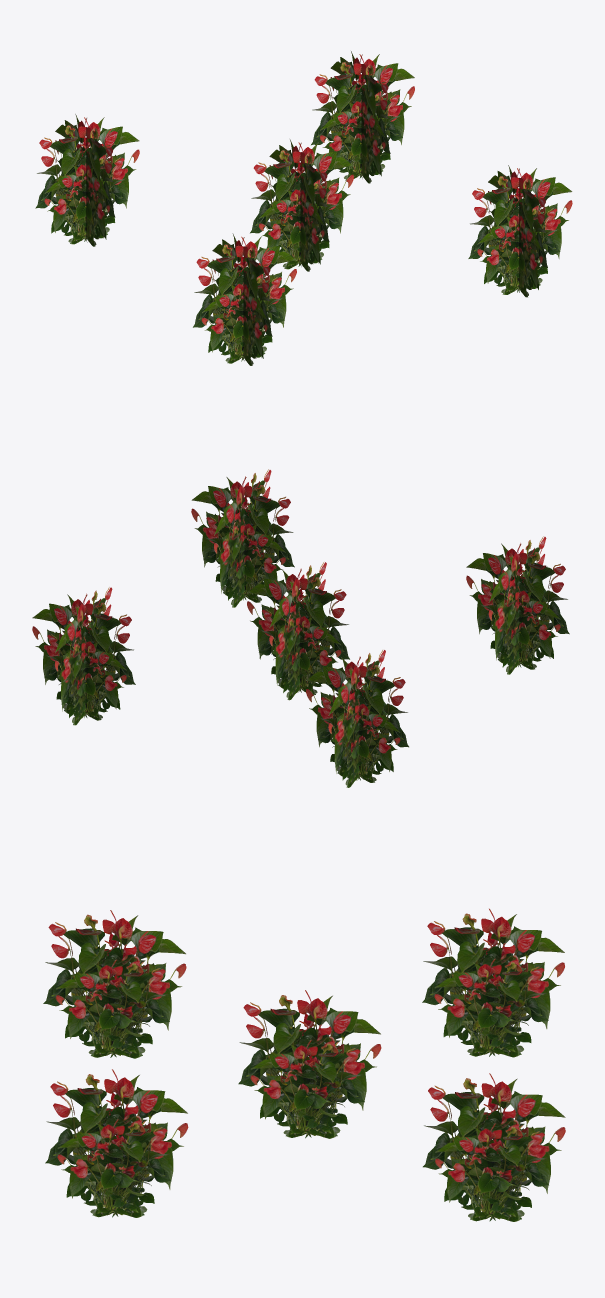
Rendered from flower.obj.
3 renders of one model, top to bottom at view 1: azimuth 30°, elevation 25°; view 2: azimuth 150°, elevation 25°; view 3: azimuth 270°, elevation 25°, orthographic. The views are drawn at different scales.
Visible parts, largest first — view 1: Plants-PNG-Clipart.003, Plants-PNG-Clipart.002, Plants-PNG-Clipart.004, Plants-PNG-Clipart.001, Plants-PNG-Clipart.005; view 2: Plants-PNG-Clipart.002, Plants-PNG-Clipart.005, Plants-PNG-Clipart.003, Plants-PNG-Clipart.004, Plants-PNG-Clipart.001; view 3: Plants-PNG-Clipart.004, Plants-PNG-Clipart.005, Plants-PNG-Clipart.001, Plants-PNG-Clipart.003, Plants-PNG-Clipart.002.
Boxes of the visible parts, <box> form: Plants-PNG-Clipart.003: <box>193,233,296,365</box>; Plants-PNG-Clipart.002: <box>35,114,139,246</box>; Plants-PNG-Clipart.004: <box>468,165,572,297</box>; Plants-PNG-Clipart.001: <box>250,139,353,271</box>; Plants-PNG-Clipart.005: <box>311,51,414,183</box>; Plants-PNG-Clipart.002: <box>306,650,408,787</box>; Plants-PNG-Clipart.005: <box>32,587,135,725</box>; Plants-PNG-Clipart.003: <box>466,536,569,674</box>; Plants-PNG-Clipart.004: <box>191,469,294,607</box>; Plants-PNG-Clipart.001: <box>247,562,349,700</box>; Plants-PNG-Clipart.004: <box>45,1069,188,1217</box>; Plants-PNG-Clipart.005: <box>423,1073,565,1221</box>; Plants-PNG-Clipart.001: <box>238,990,381,1138</box>; Plants-PNG-Clipart.003: <box>43,910,186,1058</box>; Plants-PNG-Clipart.002: <box>422,908,564,1057</box>.
Size of the model in its own units: 2.93 by 1.03 by 2.92.
2 materials, 2 textured.
